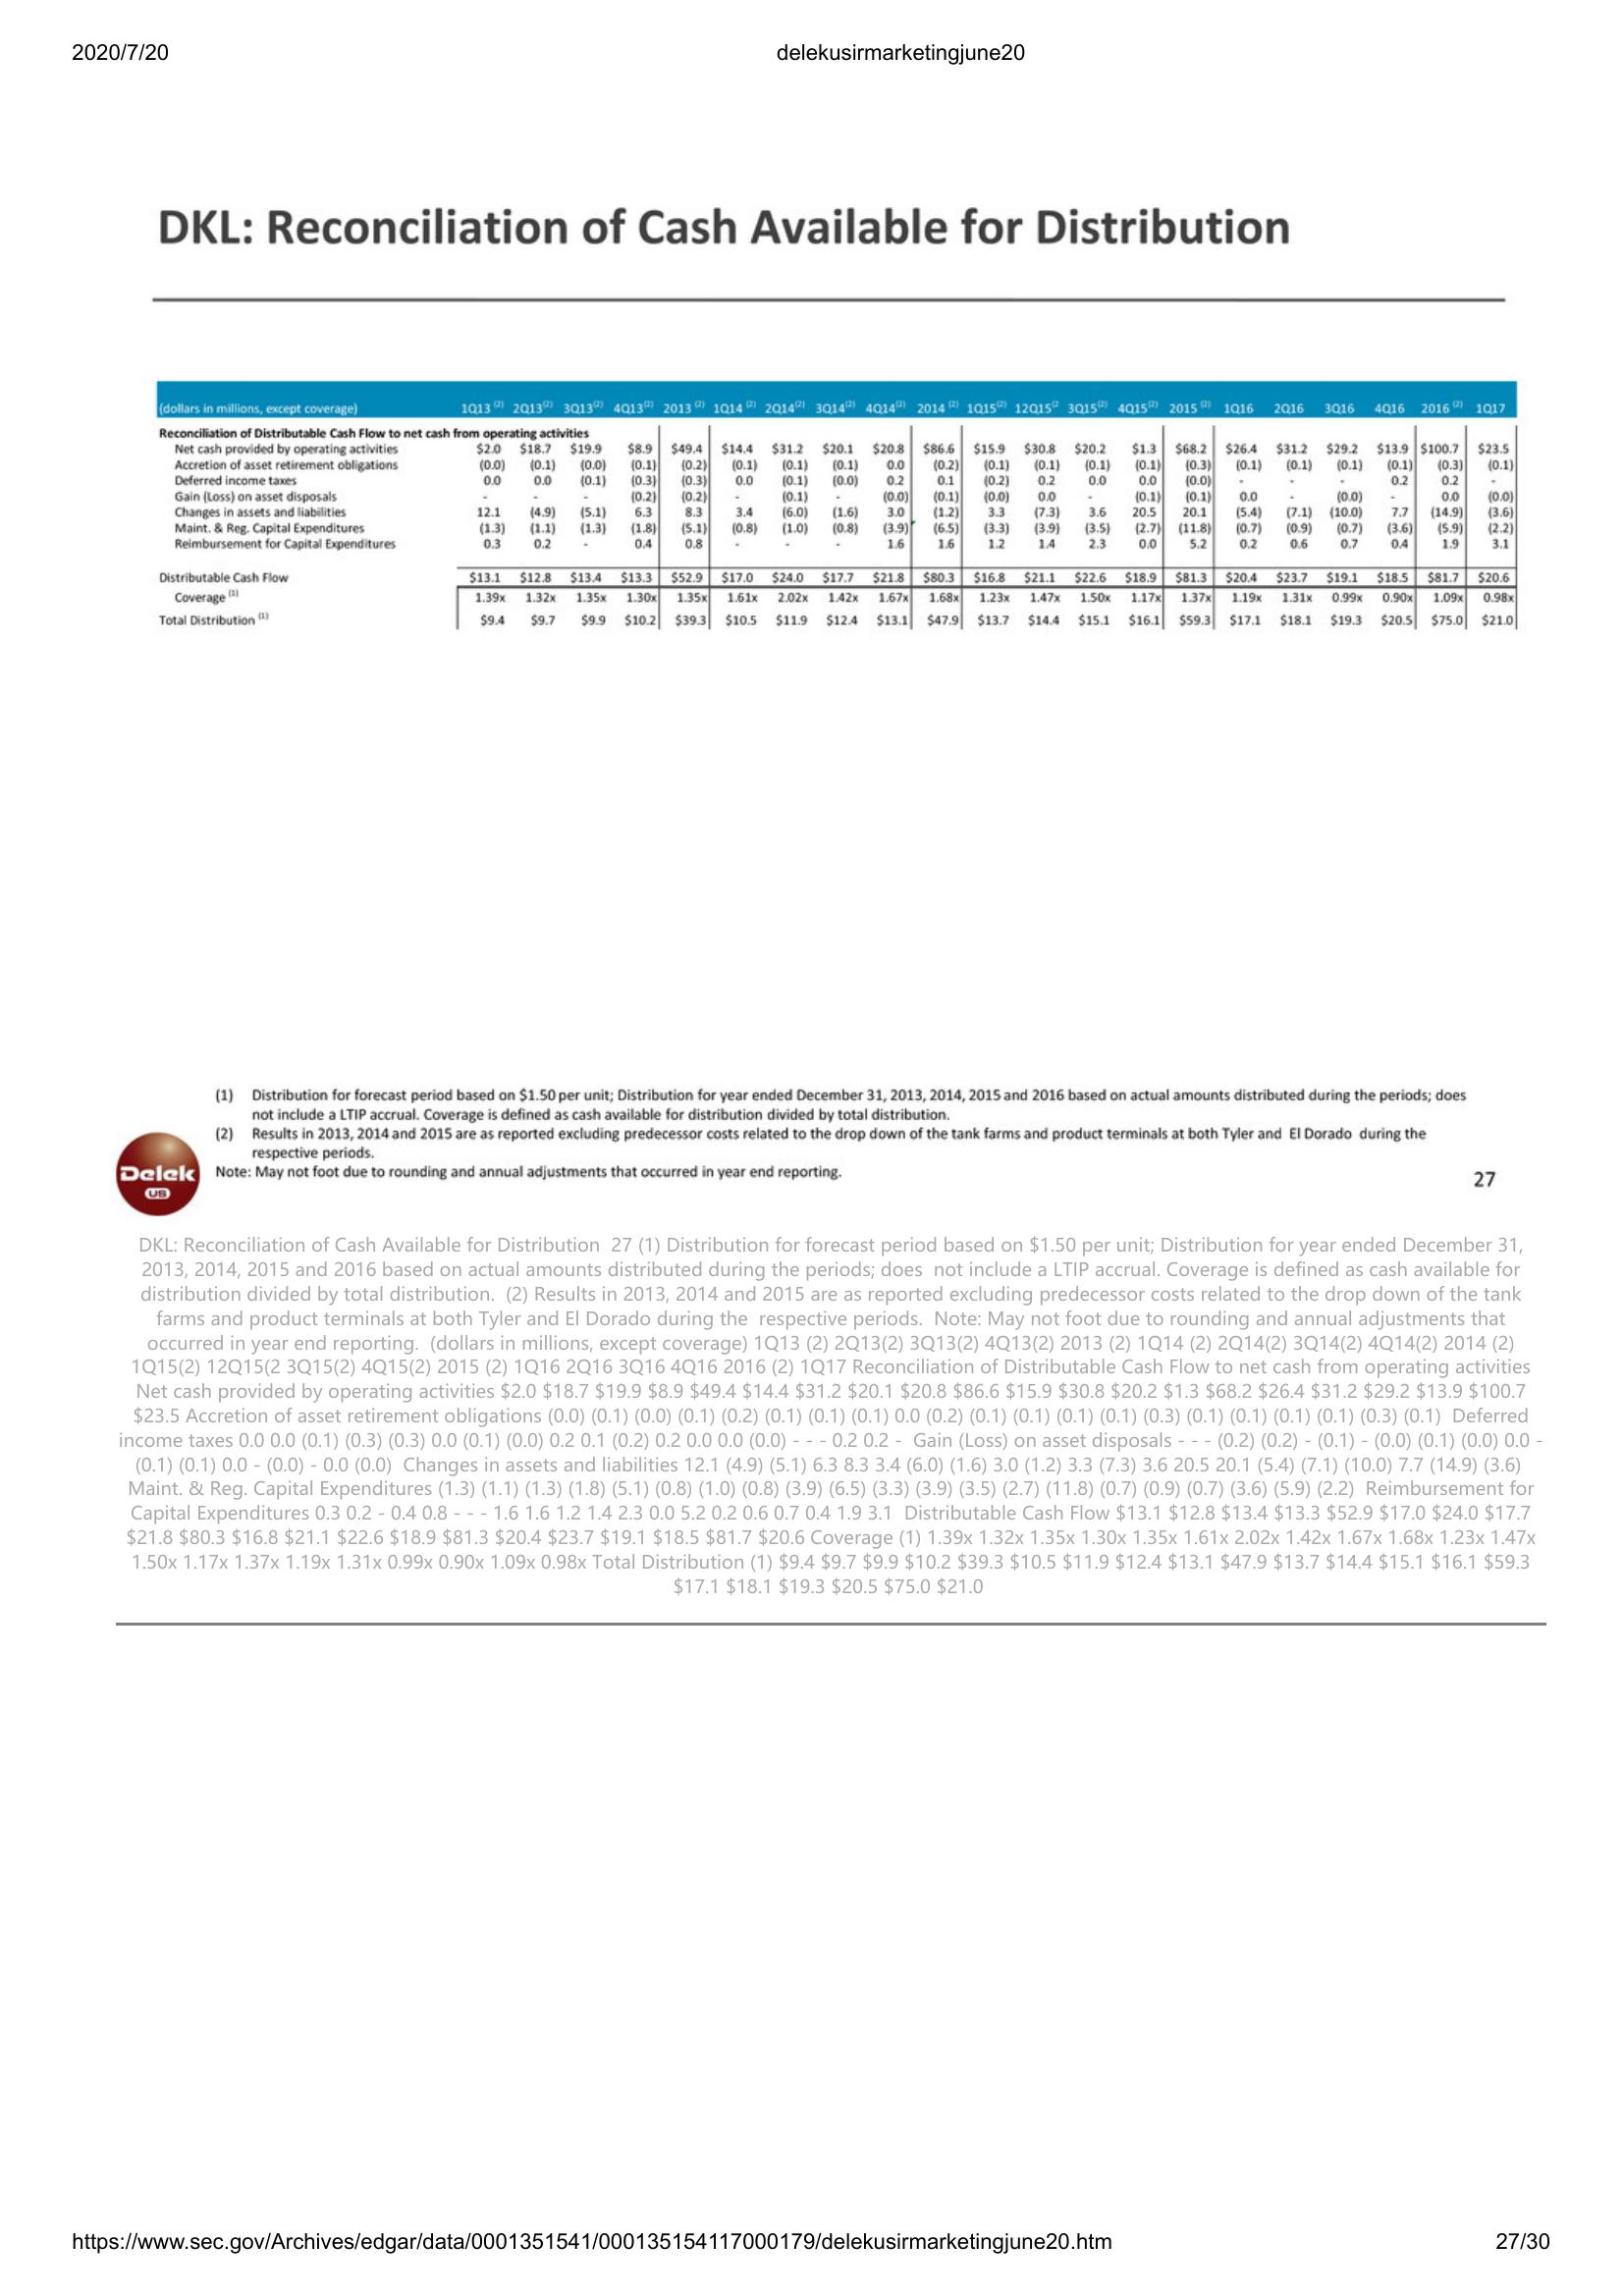table: (146, 374, 1528, 632)
